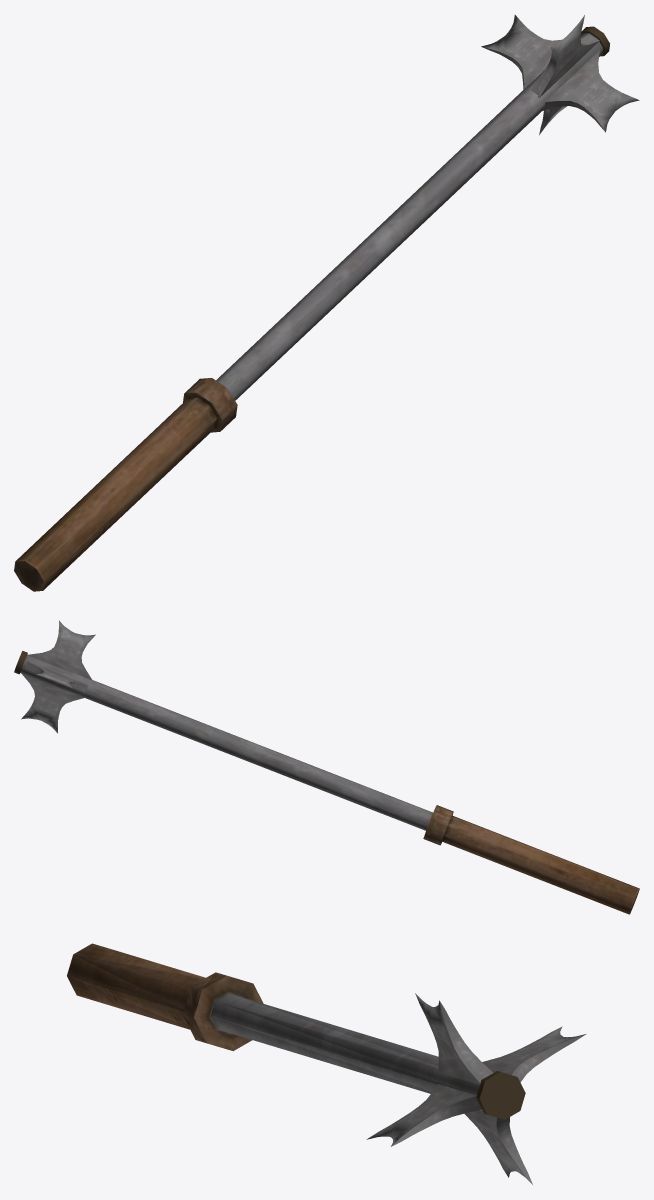
The model's file is weapon-base.glb.
The picture shows the model from 3 angles, top to bottom: view 1: azimuth 30°, elevation 25°; view 2: azimuth 150°, elevation 25°; view 3: azimuth 270°, elevation 25°; orthographic projection. The views are drawn at different scales.
Size of the model in its own units: 1.56 by 0.6745 by 0.6692.
Materials: 1 (1 with a texture image).
